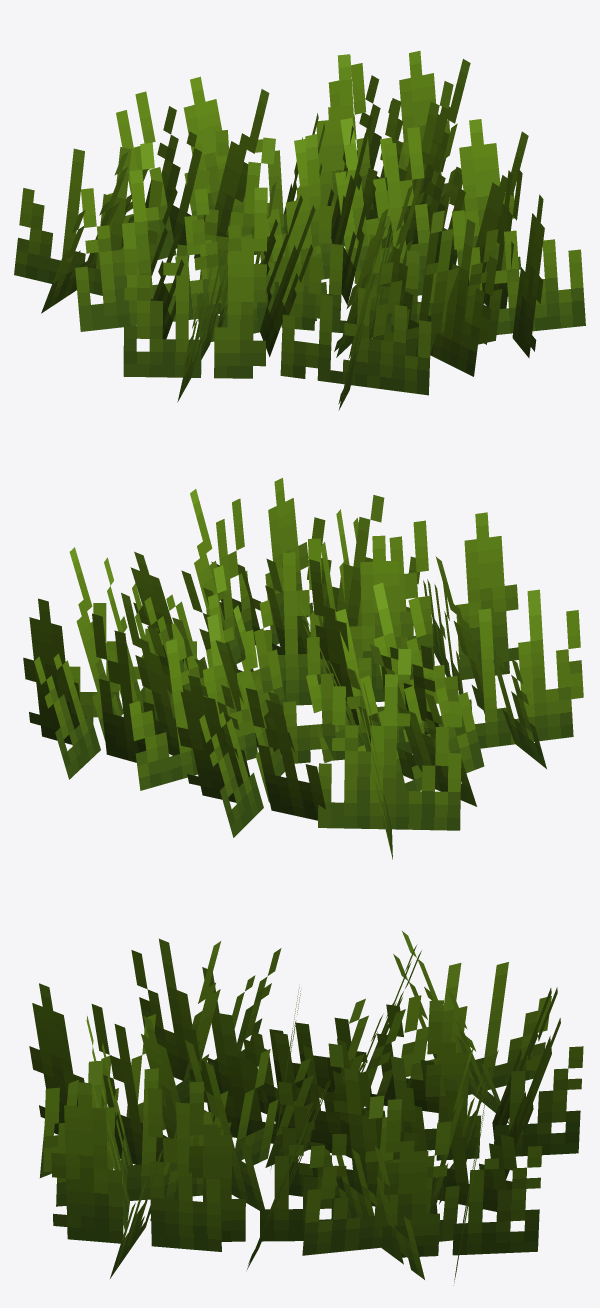
File: forest_grass_carpet.glb
3 views of the same model, one above another, from view 1: azimuth 30°, elevation 25°; view 2: azimuth 150°, elevation 25°; view 3: azimuth 270°, elevation 25° (orthographic). The views are drawn at different scales.
Parts seen in each view (by area): view 1: forest_grass_carpet; view 2: forest_grass_carpet; view 3: forest_grass_carpet.
Part boxes in pixels (left/top/right/bottom): forest_grass_carpet: left=14, top=51, right=585, bottom=410; forest_grass_carpet: left=23, top=478, right=583, bottom=859; forest_grass_carpet: left=29, top=931, right=583, bottom=1285.
Bounding box in the file's own units: 1.19 × 0.4656 × 1.25.
1 material, 1 textured.
